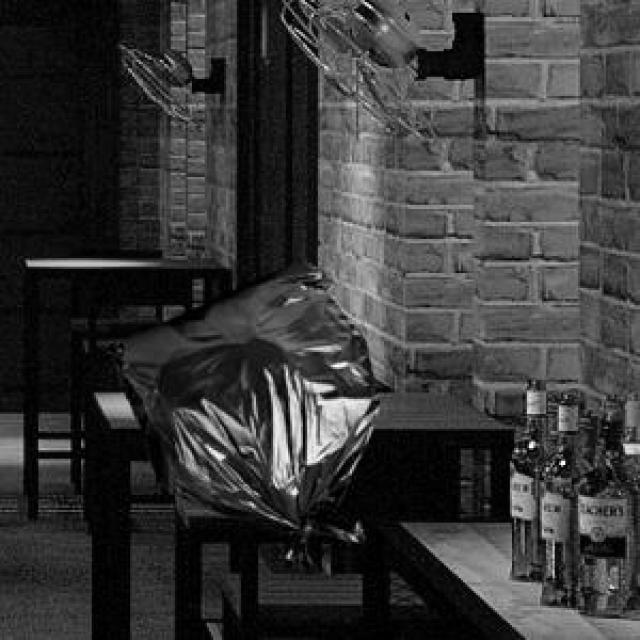miscellaneous trash: (102, 258, 376, 568)
